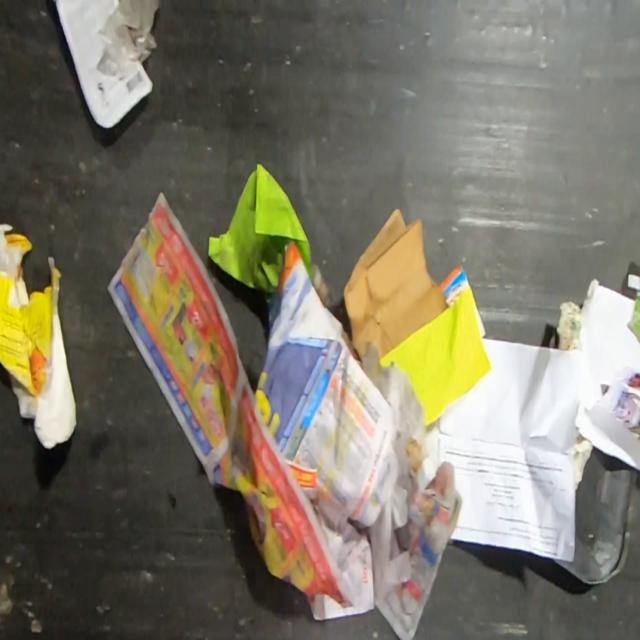cardboard: (0, 222, 78, 452), (341, 207, 451, 361), (56, 0, 154, 131)
rigid_plastic: (550, 446, 640, 586)
soft_plastic: (96, 0, 160, 72)
